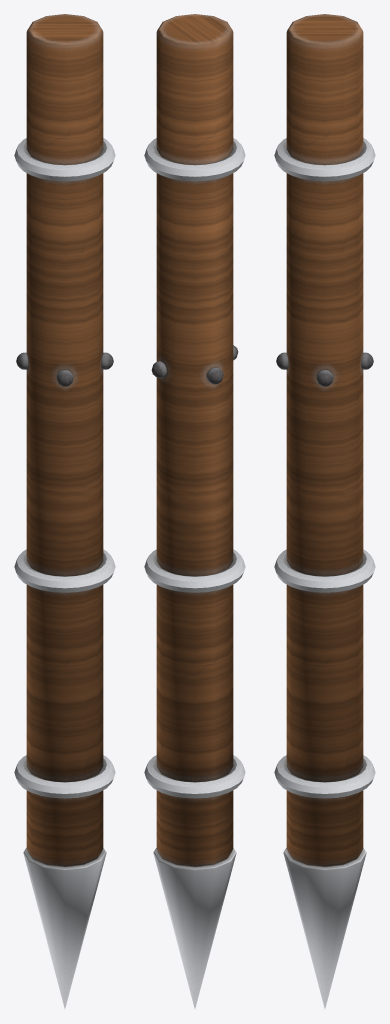
The model's file is SilverStake.fbx.
3 renders of one model, left to right at view 1: azimuth 90°, elevation 25°; view 2: azimuth 210°, elevation 25°; view 3: azimuth 270°, elevation 25°, orthographic.
Parts seen in each view (by area): view 1: SilverStake; view 2: SilverStake; view 3: SilverStake.
Boxes of the visible parts, box(x1,y1,x2,y2) form: SilverStake: box(14, 14, 115, 1008); SilverStake: box(144, 14, 245, 1008); SilverStake: box(274, 14, 375, 1008).
Size of the model in its own units: 29 by 310 by 29.
